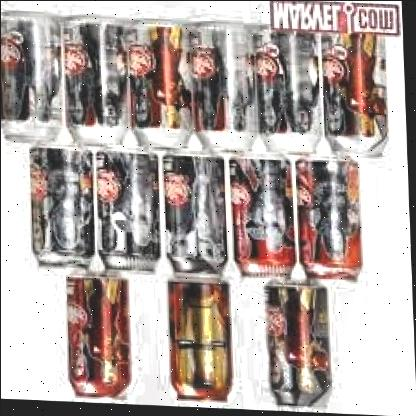Can: (321, 29, 396, 160), (262, 278, 336, 410), (162, 276, 236, 408), (61, 274, 135, 406), (26, 146, 98, 278), (161, 152, 233, 282), (191, 22, 261, 155), (128, 19, 196, 155), (64, 14, 132, 150), (296, 153, 366, 285), (228, 155, 298, 285), (0, 13, 66, 150), (96, 149, 164, 278), (258, 29, 326, 157)
